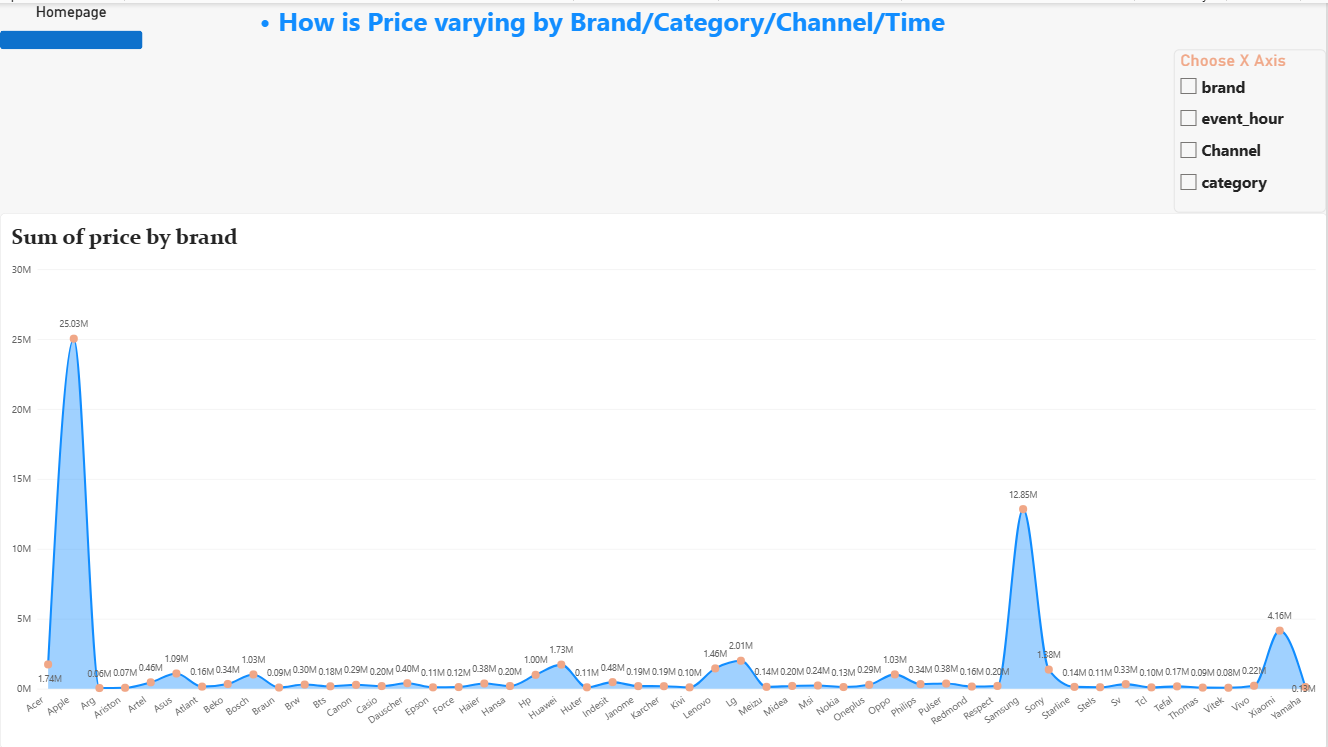

What the dashboard file says about the page in this screenshot:
{"tool":"powerbi","page":{"name":"Price Variations","canvas":[1920,1080],"ordinal":1},"visuals":[{"type":"textbox","box":[10.9,0,1909.2,67],"z":0},{"type":"areaChart","fields":{"Category":["Sales_Data_Ecommerce.category","Sales_Data_Ecommerce.Channel","Sales_Data_Ecommerce.event_hour","Sales_Data_Ecommerce.brand"],"Y":["Sum(Sales_Data_Ecommerce.price)"]},"box":[0,304,1921.9,776.3],"z":1},{"type":"slicer","fields":{"Values":["Choose X Axis.Choose X Axis"]},"box":[1699.3,67,220.8,237.1],"z":2},{"type":"actionButton","title":"Homepage","box":[0,0,206.3,67],"z":3}]}

Visuals, with their boxes on the page's 1920x1080 design canvas (x1, y1, x2, y2). These are canvas units, not pixel positions in the 1328x747 screenshot, which may show the page scaled, cropped or inside an application window:
textbox: detection(11, 0, 1920, 67)
areaChart - Sales_Data_Ecommerce.category x Sales_Data_Ecommerce.Channel: detection(0, 304, 1922, 1080)
slicer - Choose X Axis.Choose X Axis: detection(1699, 67, 1920, 304)
"Homepage" actionButton: detection(0, 0, 206, 67)
